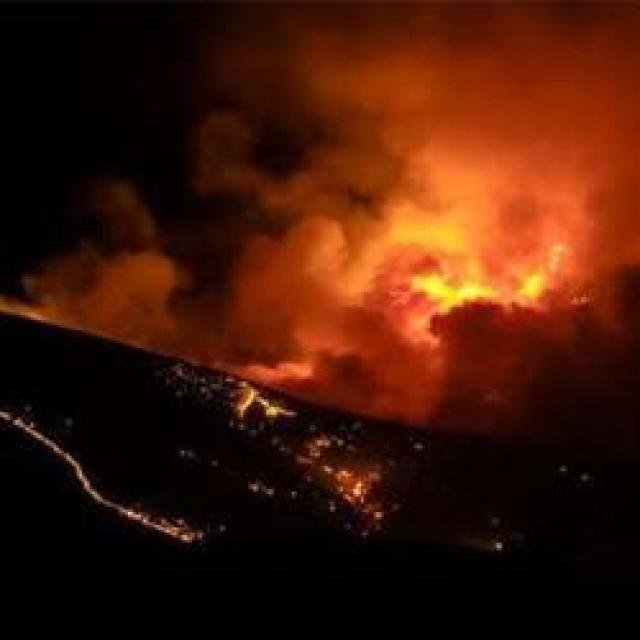Fire: (384, 229, 604, 363)
Smoke: (0, 0, 640, 233)
